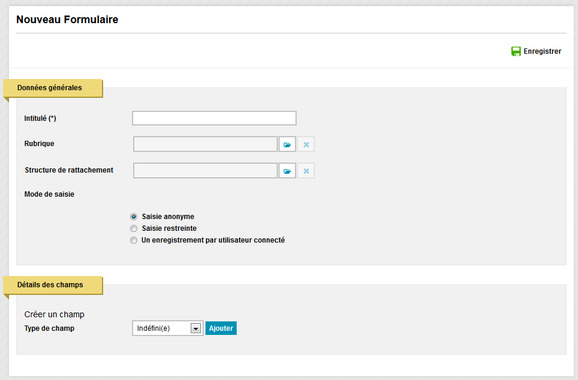_form_: (1, 1, 416, 380)
button: (204, 319, 239, 337)
field: (131, 110, 298, 126), (132, 136, 280, 152), (132, 163, 280, 179), (130, 319, 203, 337)
field_with_label: (25, 162, 282, 181), (26, 109, 299, 126), (25, 135, 282, 153), (23, 318, 207, 339)
radio: (128, 211, 139, 222), (129, 235, 139, 245), (129, 224, 137, 233)
radio_with_label: (125, 233, 286, 246), (126, 223, 198, 234), (125, 211, 194, 222)
